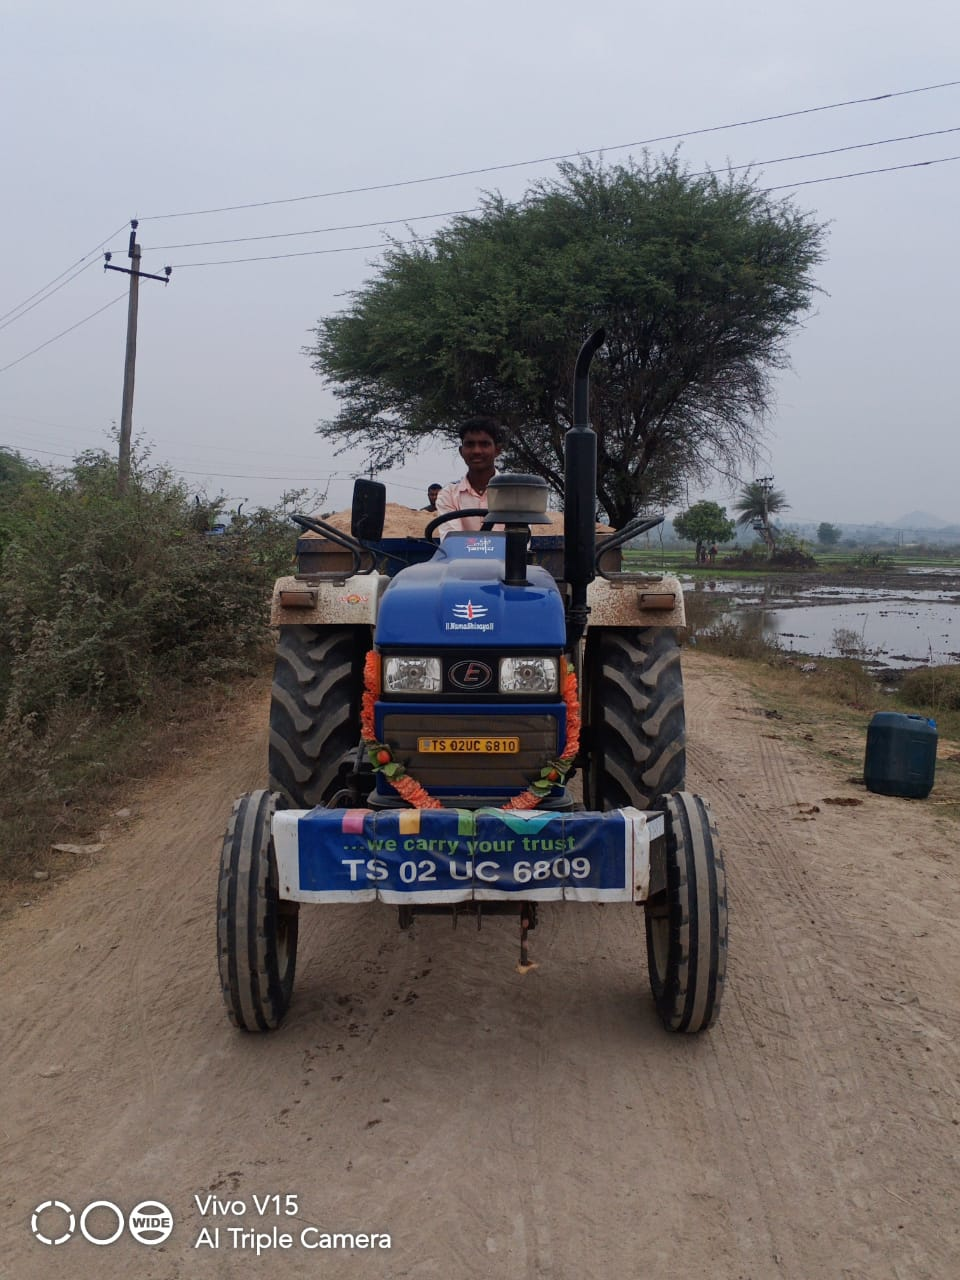license_plate: (337, 847, 598, 898)
